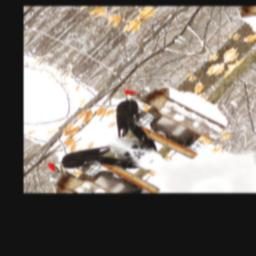Woodpecker: (88, 86, 184, 153)
